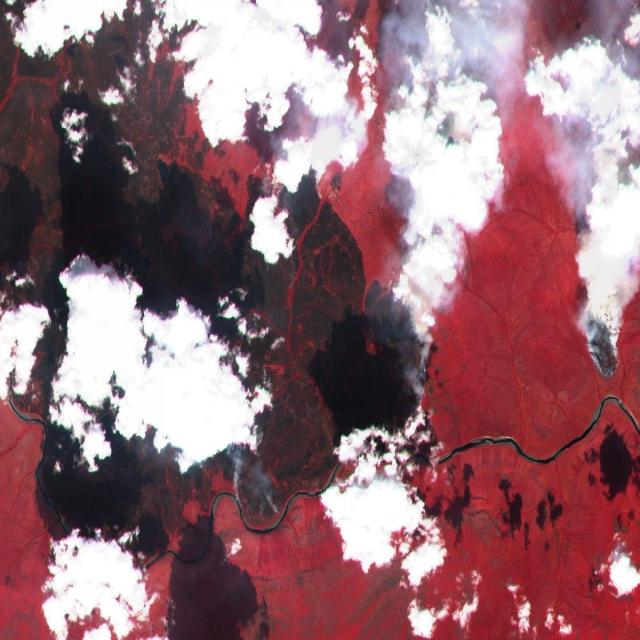fire: (374, 278, 444, 440), (574, 292, 628, 388), (247, 151, 324, 212), (233, 474, 301, 534)
